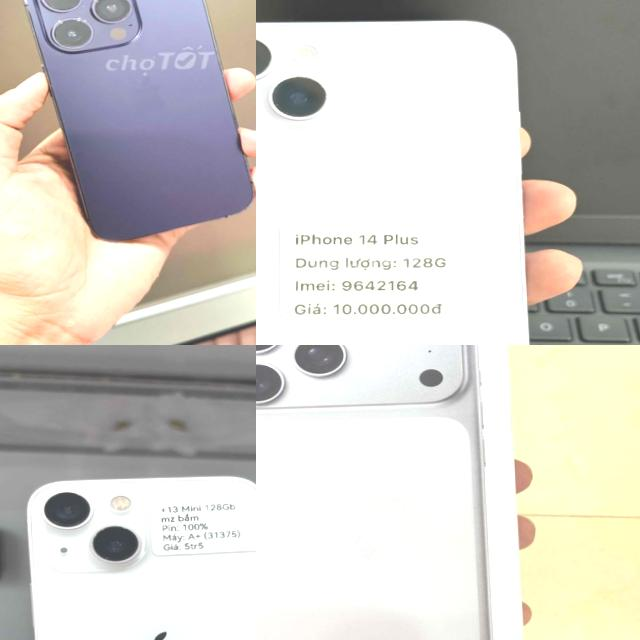gen_12_13: (19, 466, 256, 640)
gen_14: (256, 8, 555, 345), (14, 0, 256, 250)
gen_17: (256, 345, 510, 640)
